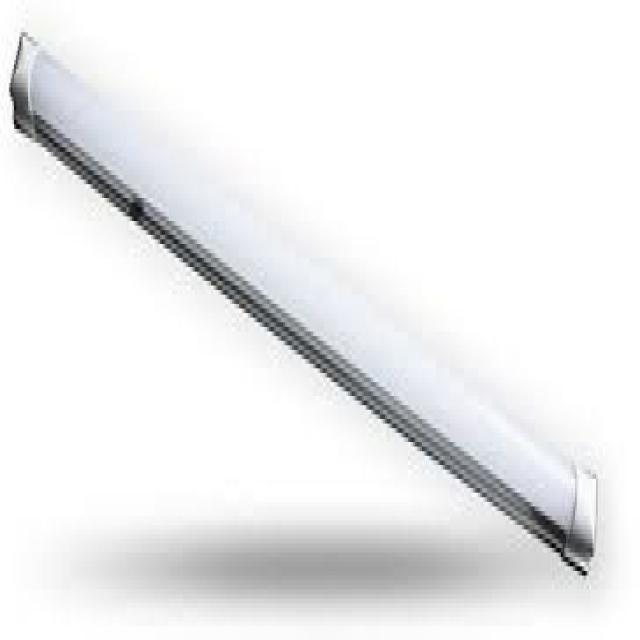tubelight_off: (3, 21, 617, 593)
